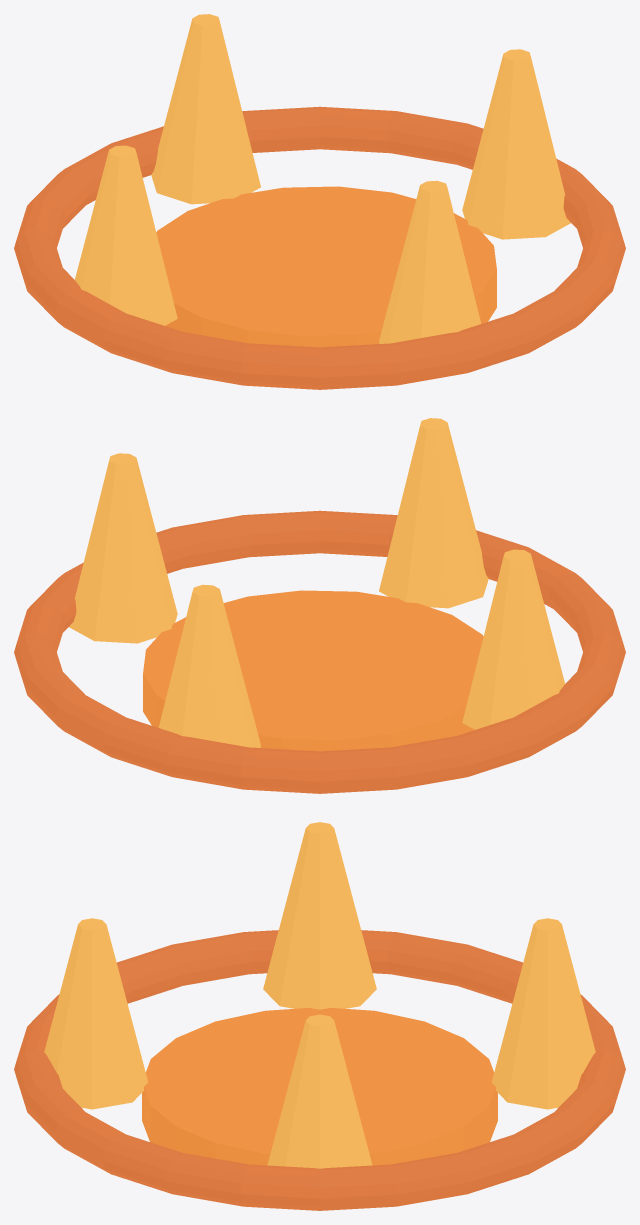
Rendered from hazard_fire.glb.
The picture shows the model from 3 angles, top to bottom: view 1: azimuth 30°, elevation 25°; view 2: azimuth 150°, elevation 25°; view 3: azimuth 270°, elevation 25°; orthographic projection.
Parts seen in each view (by area): view 1: fire_ground; view 2: fire_ground; view 3: fire_ground.
Boxes of the visible parts, <box> form: fire_ground: <box>14,14,625,389</box>; fire_ground: <box>14,418,625,793</box>; fire_ground: <box>14,822,625,1210</box>.
Size of the model in its own units: 0.86 by 0.305 by 0.86.
